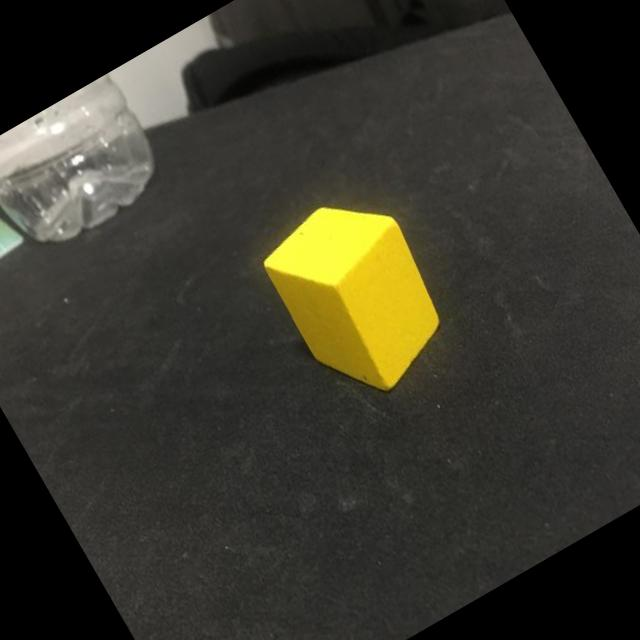yellow: (252, 178, 469, 416)
